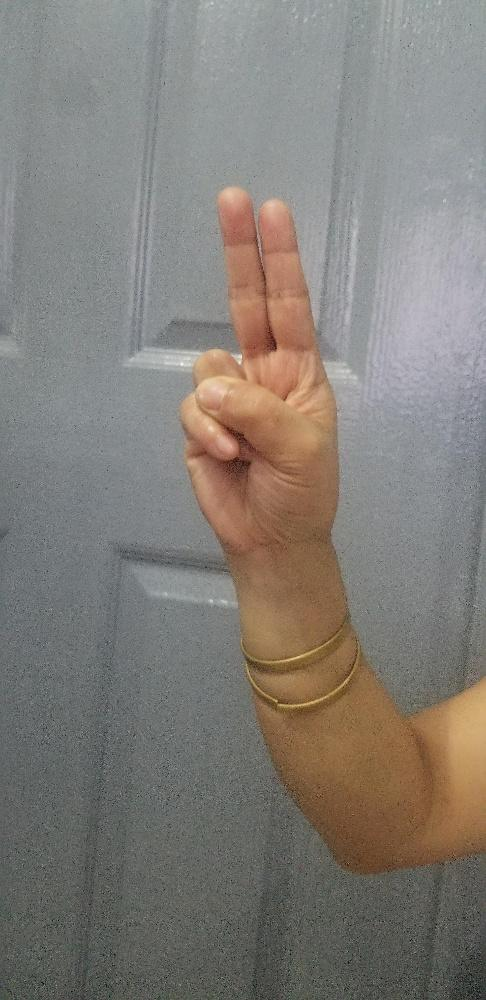u: (175, 184, 339, 538)
